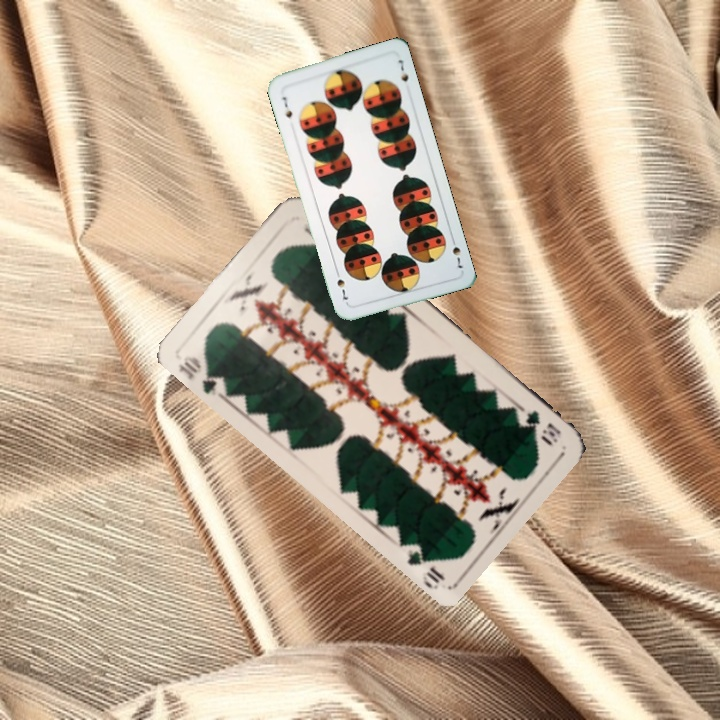G10: (174, 352, 229, 399), (521, 406, 564, 447)
S7: (447, 233, 466, 271), (278, 93, 295, 120)
